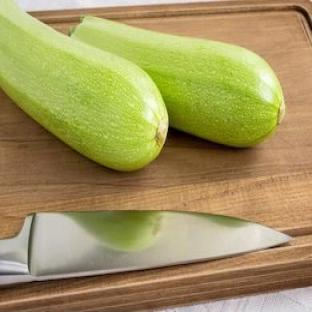Zucchini: (71, 17, 284, 146)
